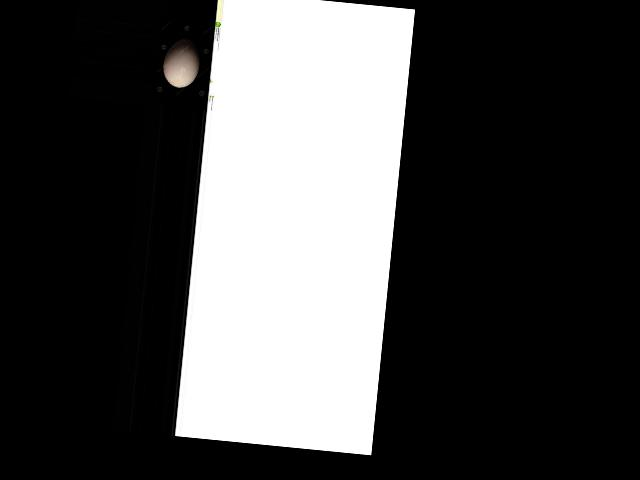egg: (161, 37, 202, 90)
